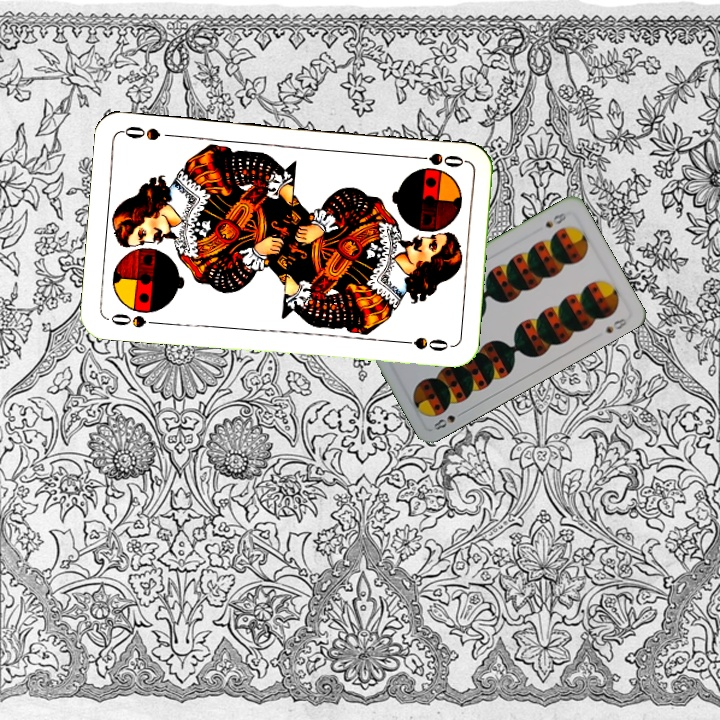S8: (429, 407, 467, 433), (541, 208, 569, 230)
SO: (104, 306, 163, 330), (408, 148, 468, 170)
